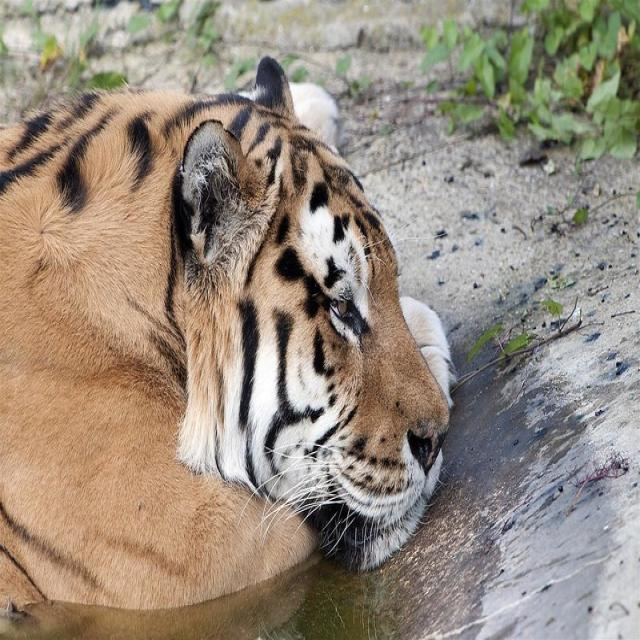Tiger: (0, 54, 452, 618)
